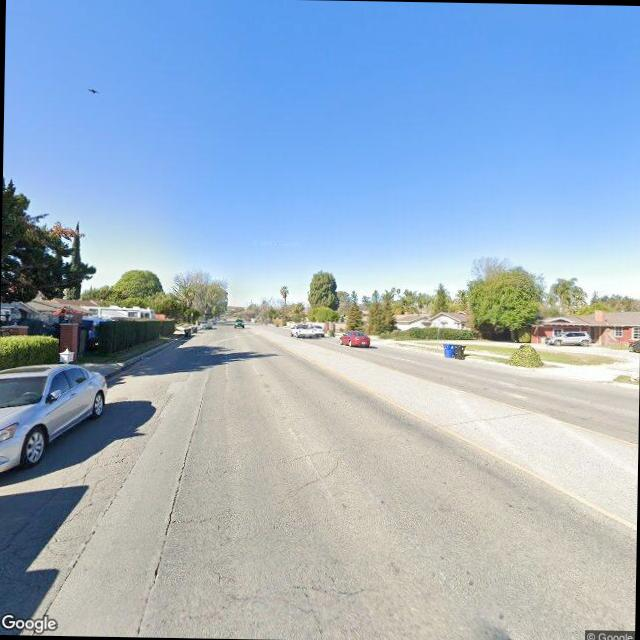crack: (41, 376, 176, 526)
pothole: (282, 456, 342, 494)
